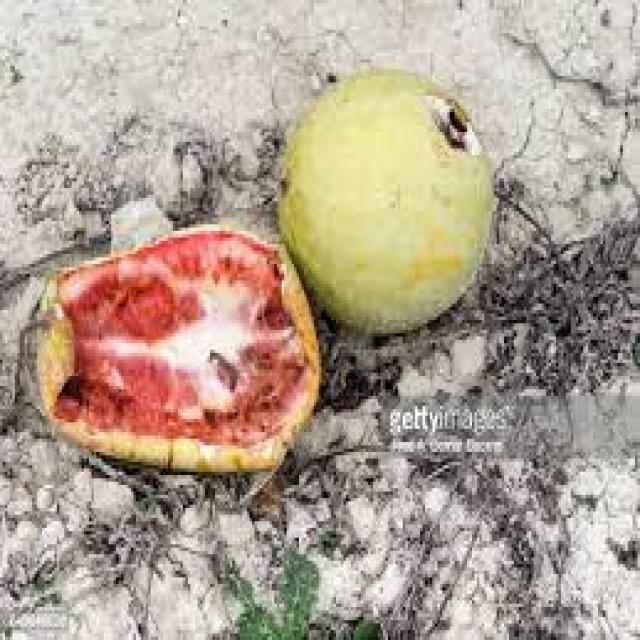organic waste: (37, 221, 316, 472), (272, 72, 489, 330)
